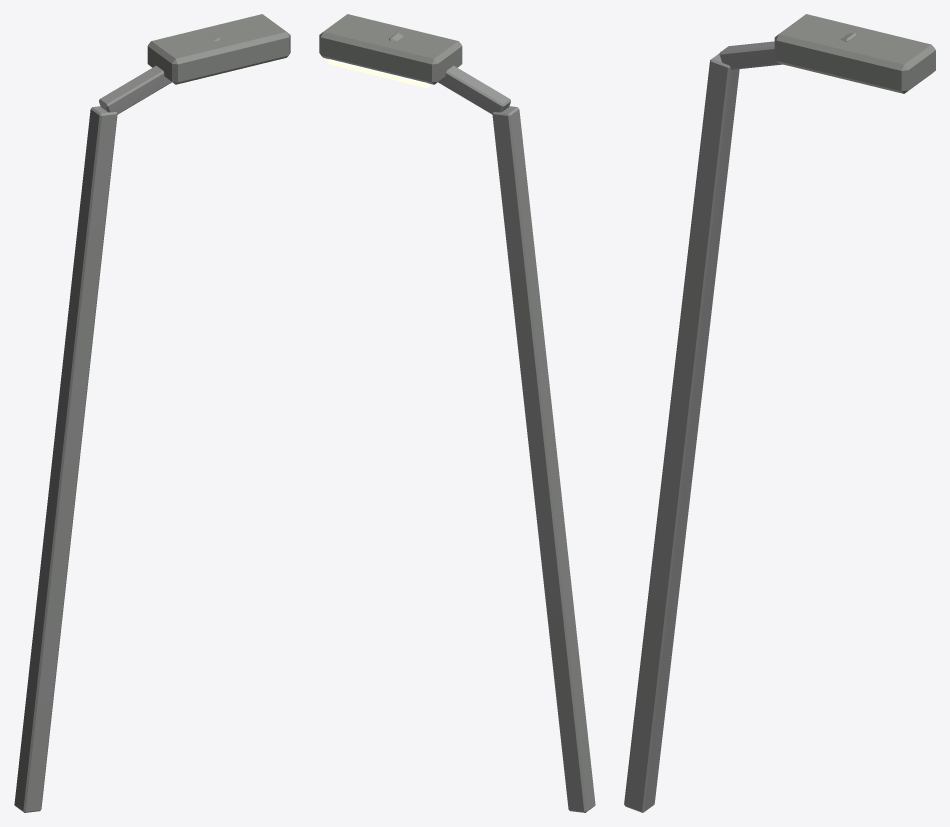
Rendered from AC_Streetlight.glb.
3 renders of one model, left to right at view 1: azimuth 30°, elevation 25°; view 2: azimuth 150°, elevation 25°; view 3: azimuth 330°, elevation 25°, orthographic. The views are drawn at different scales.
Visible parts, largest first — view 1: Body; view 2: Body, Light; view 3: Body.
Part boxes in pixels (x1,y1,x2,y2): Body: (14, 14, 290, 812); Body: (319, 14, 595, 812); Light: (328, 59, 431, 87); Body: (624, 14, 935, 812).
Size of the model in its own units: 6.78 by 18.2 by 1.3.
